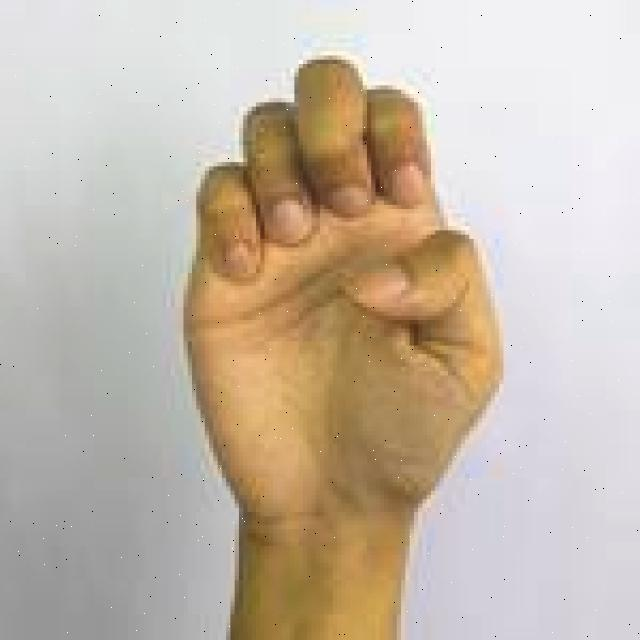E: (182, 58, 504, 640)
